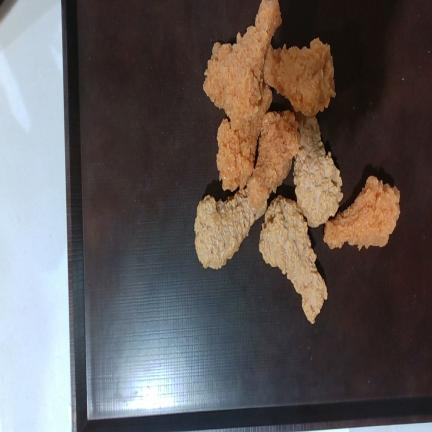chicken: (203, 0, 281, 128), (259, 196, 327, 323), (216, 86, 272, 191), (194, 188, 266, 269), (324, 176, 400, 250), (293, 115, 343, 226), (263, 38, 335, 115), (248, 110, 300, 209)
